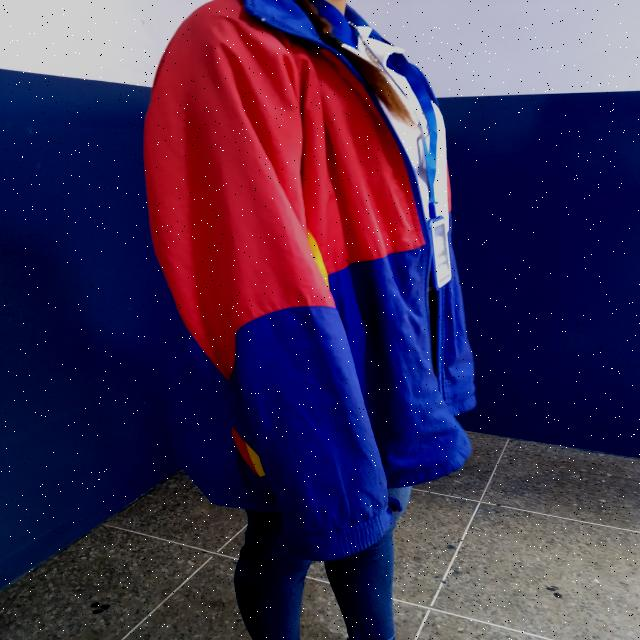carnet: (429, 220, 453, 288)
chaqueta_unefa: (142, 0, 478, 563)
